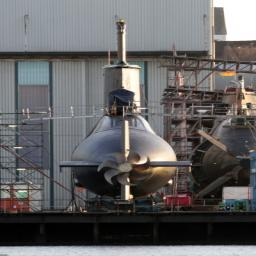submarine: (58, 19, 195, 205), (200, 86, 256, 204)
